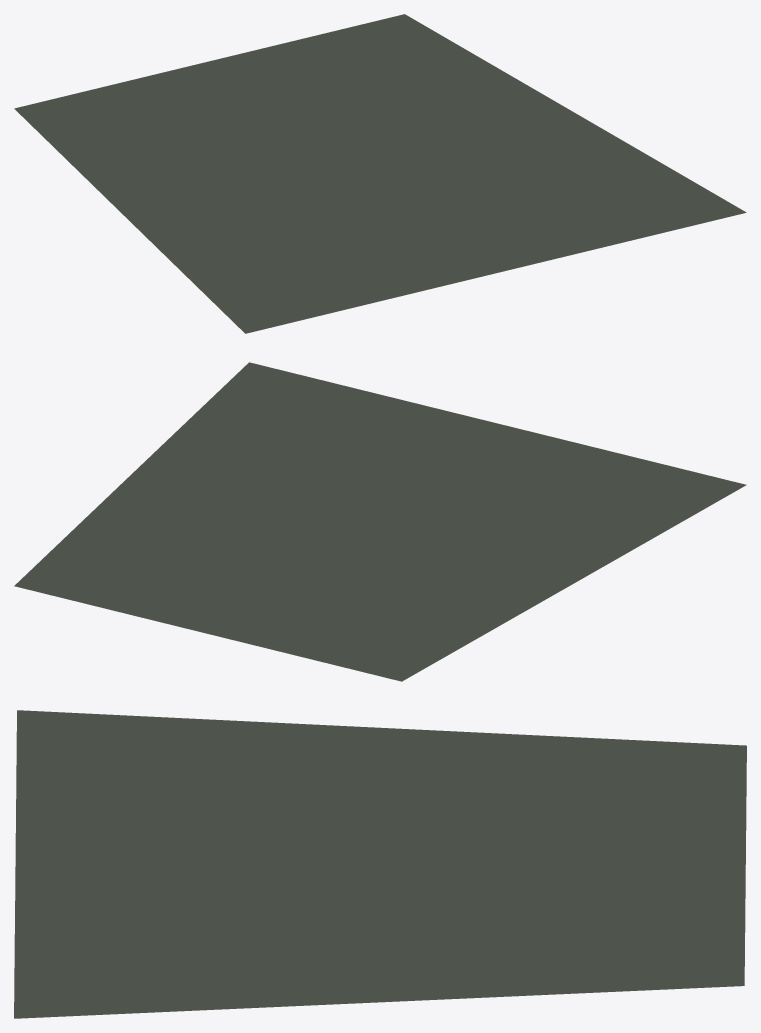
Rendered from SF_Env_Stonepath_03.glb.
3 renders of one model, top to bottom at view 1: azimuth 30°, elevation 25°; view 2: azimuth 150°, elevation 25°; view 3: azimuth 270°, elevation 25°, orthographic. The views are drawn at different scales.
Visible parts, largest first — view 1: SF_Env_Stonepath_03; view 2: SF_Env_Stonepath_03; view 3: SF_Env_Stonepath_03.
Part boxes in pixels (box(x1,y1,x2,y2)): SF_Env_Stonepath_03: box(14, 14, 746, 333); SF_Env_Stonepath_03: box(14, 362, 746, 681); SF_Env_Stonepath_03: box(14, 710, 746, 1018).
Size of the model in its own units: 0.0123 by 9.17e-10 by 0.0123.
1 material, 1 textured.
